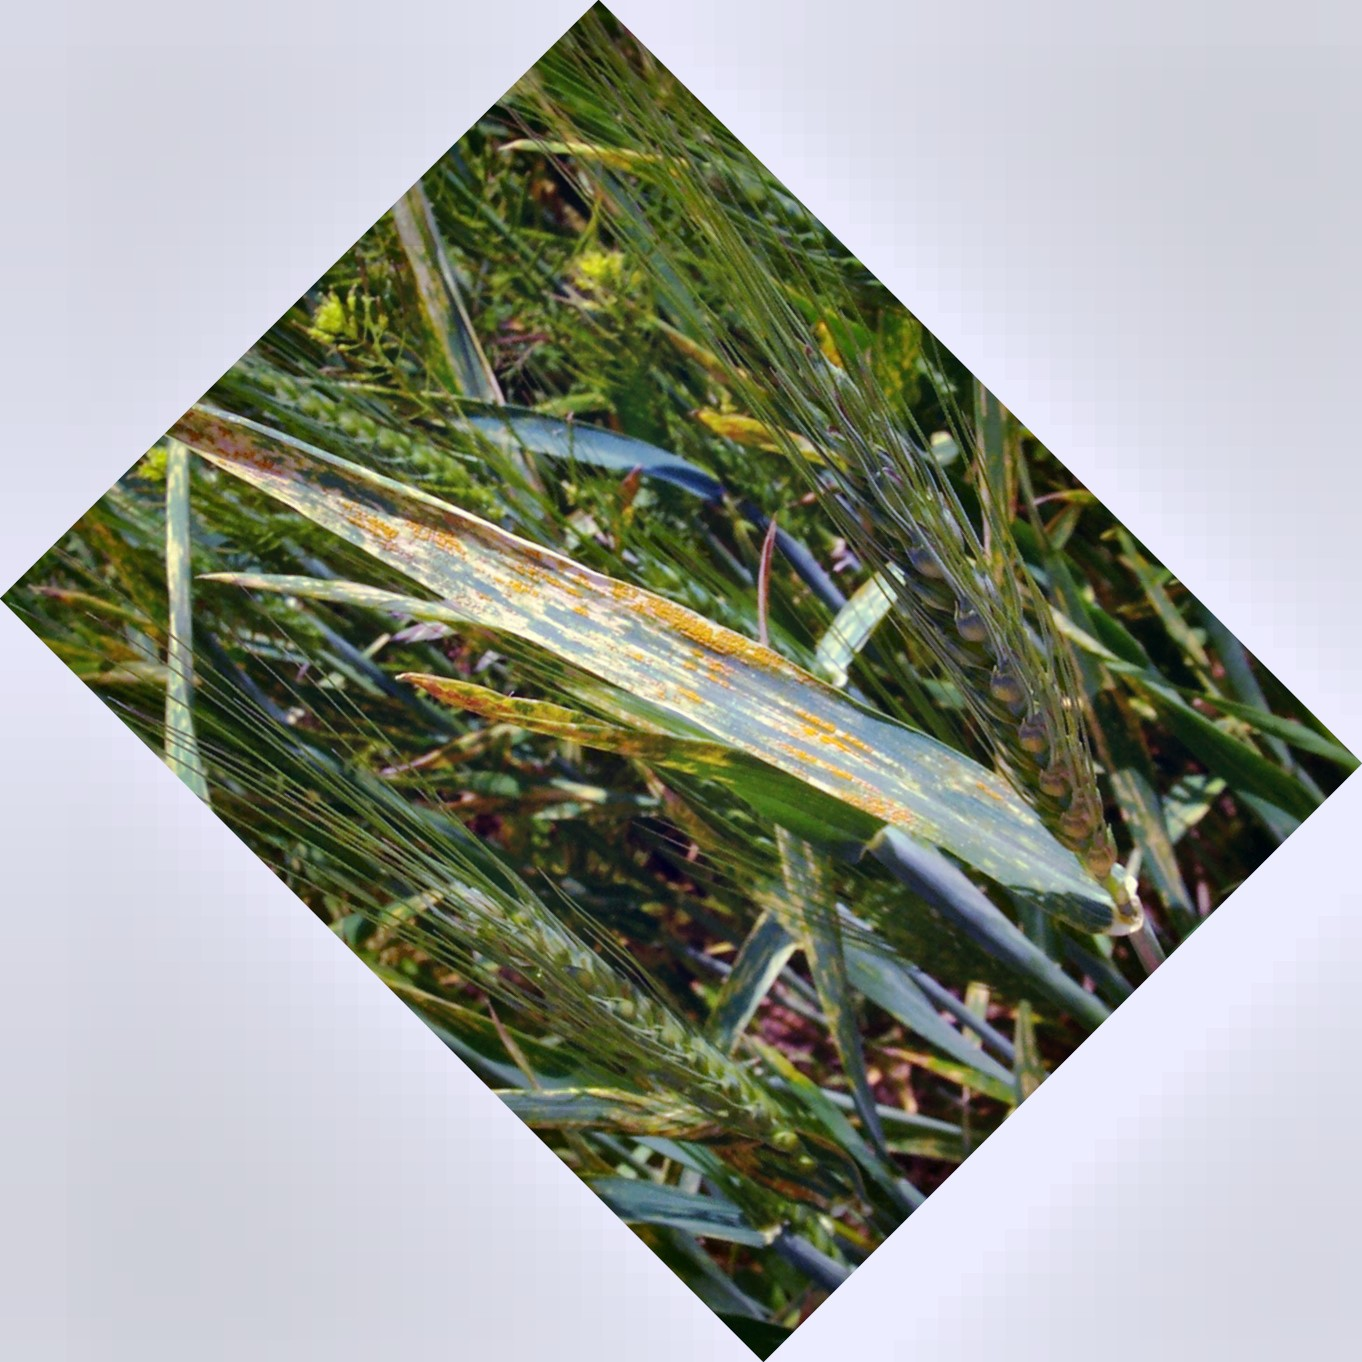Leaf Rust: (319, 479, 904, 817)
